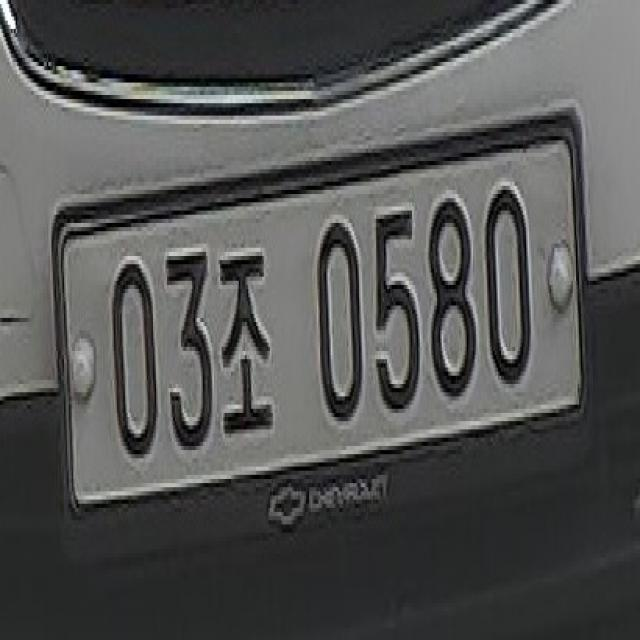0: (484, 170, 542, 407), (105, 258, 161, 480), (314, 197, 364, 443)
3: (163, 239, 214, 466)
5: (370, 192, 424, 438)
8: (428, 174, 478, 430)
jo: (216, 241, 284, 451)
license_plate: (40, 94, 610, 517)
